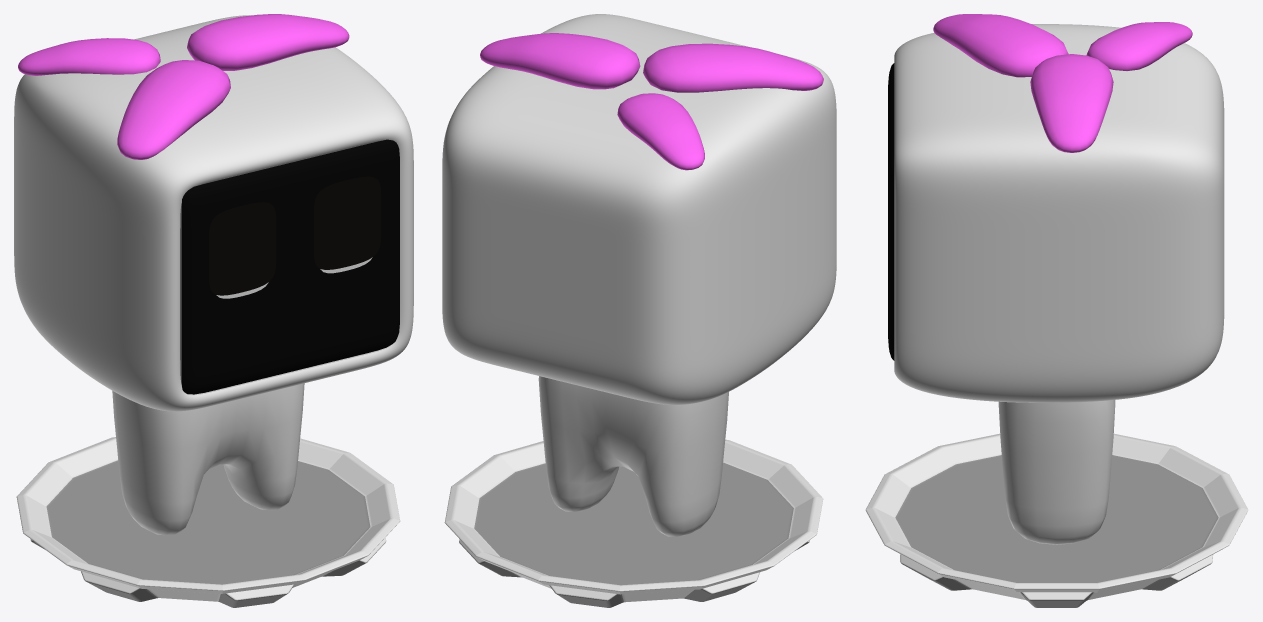
The model's file is Robo.fbx.
3 views of the same model, side by side, from view 1: azimuth 30°, elevation 25°; view 2: azimuth 150°, elevation 25°; view 3: azimuth 270°, elevation 25° (orthographic).
Visible parts, largest first — view 1: Screen, Cylinder, Screen.001, Plane.002; view 2: Screen, Cylinder, Screen.001; view 3: Screen, Cylinder, Screen.001.
Part boxes in pixels (box(x1,y1,x2,y2)): Screen: box(14, 15, 413, 535); Cylinder: box(16, 437, 400, 607); Screen.001: box(18, 14, 349, 159); Plane.002: box(209, 176, 381, 295); Screen: box(442, 14, 836, 536); Cylinder: box(444, 439, 823, 607); Screen.001: box(480, 33, 823, 170); Screen: box(888, 24, 1224, 544); Cylinder: box(865, 433, 1248, 607); Screen.001: box(933, 14, 1192, 152).
Bounding box in the file's own units: 516 × 800 × 529.
